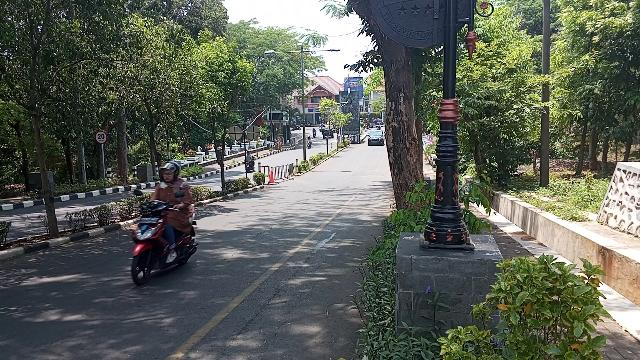helm: (159, 161, 181, 183)
motor: (130, 189, 201, 289)
